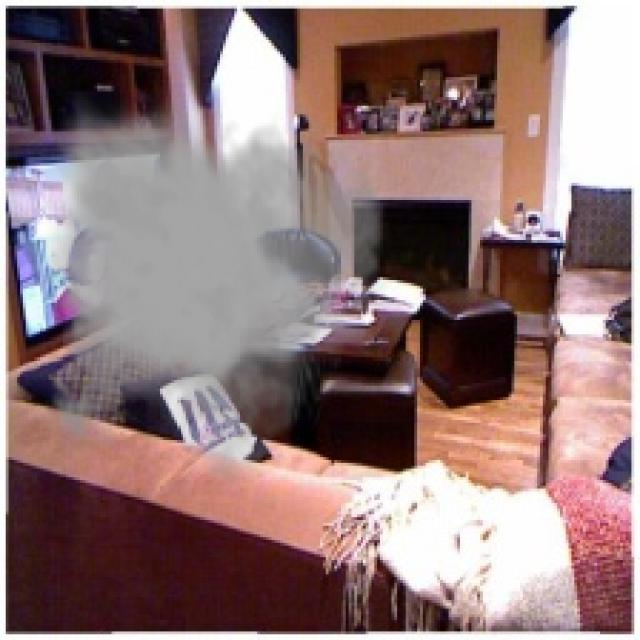smoke: (40, 91, 389, 483)
